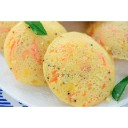idly: (45, 32, 114, 105), (5, 22, 68, 88), (86, 17, 128, 60)
